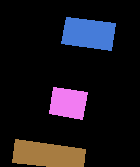parkingspot: (12, 139, 85, 167), (61, 17, 115, 50), (49, 87, 87, 119)
